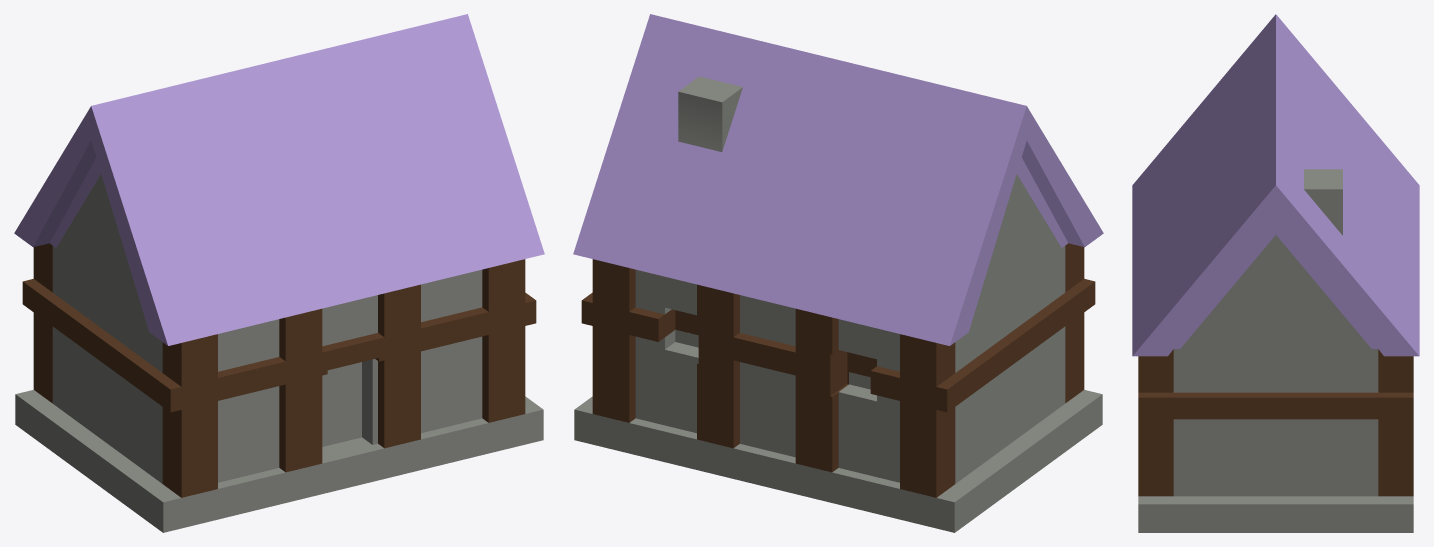
The model's file is gehoeft_lavendel.glb.
The picture shows the model from 3 angles, left to right: view 1: azimuth 30°, elevation 25°; view 2: azimuth 150°, elevation 25°; view 3: azimuth 270°, elevation 25°; orthographic projection. The views are drawn at different scales.
Parts seen in each view (by area): view 1: gehoeft_lavendel; view 2: gehoeft_lavendel; view 3: gehoeft_lavendel.
Part boxes in pixels (x1,y1,x2,y2): gehoeft_lavendel: (14,14,544,532); gehoeft_lavendel: (573,14,1103,532); gehoeft_lavendel: (1132,14,1419,532).
Size of the model in its own units: 10.4 by 9.74 by 7.3.
